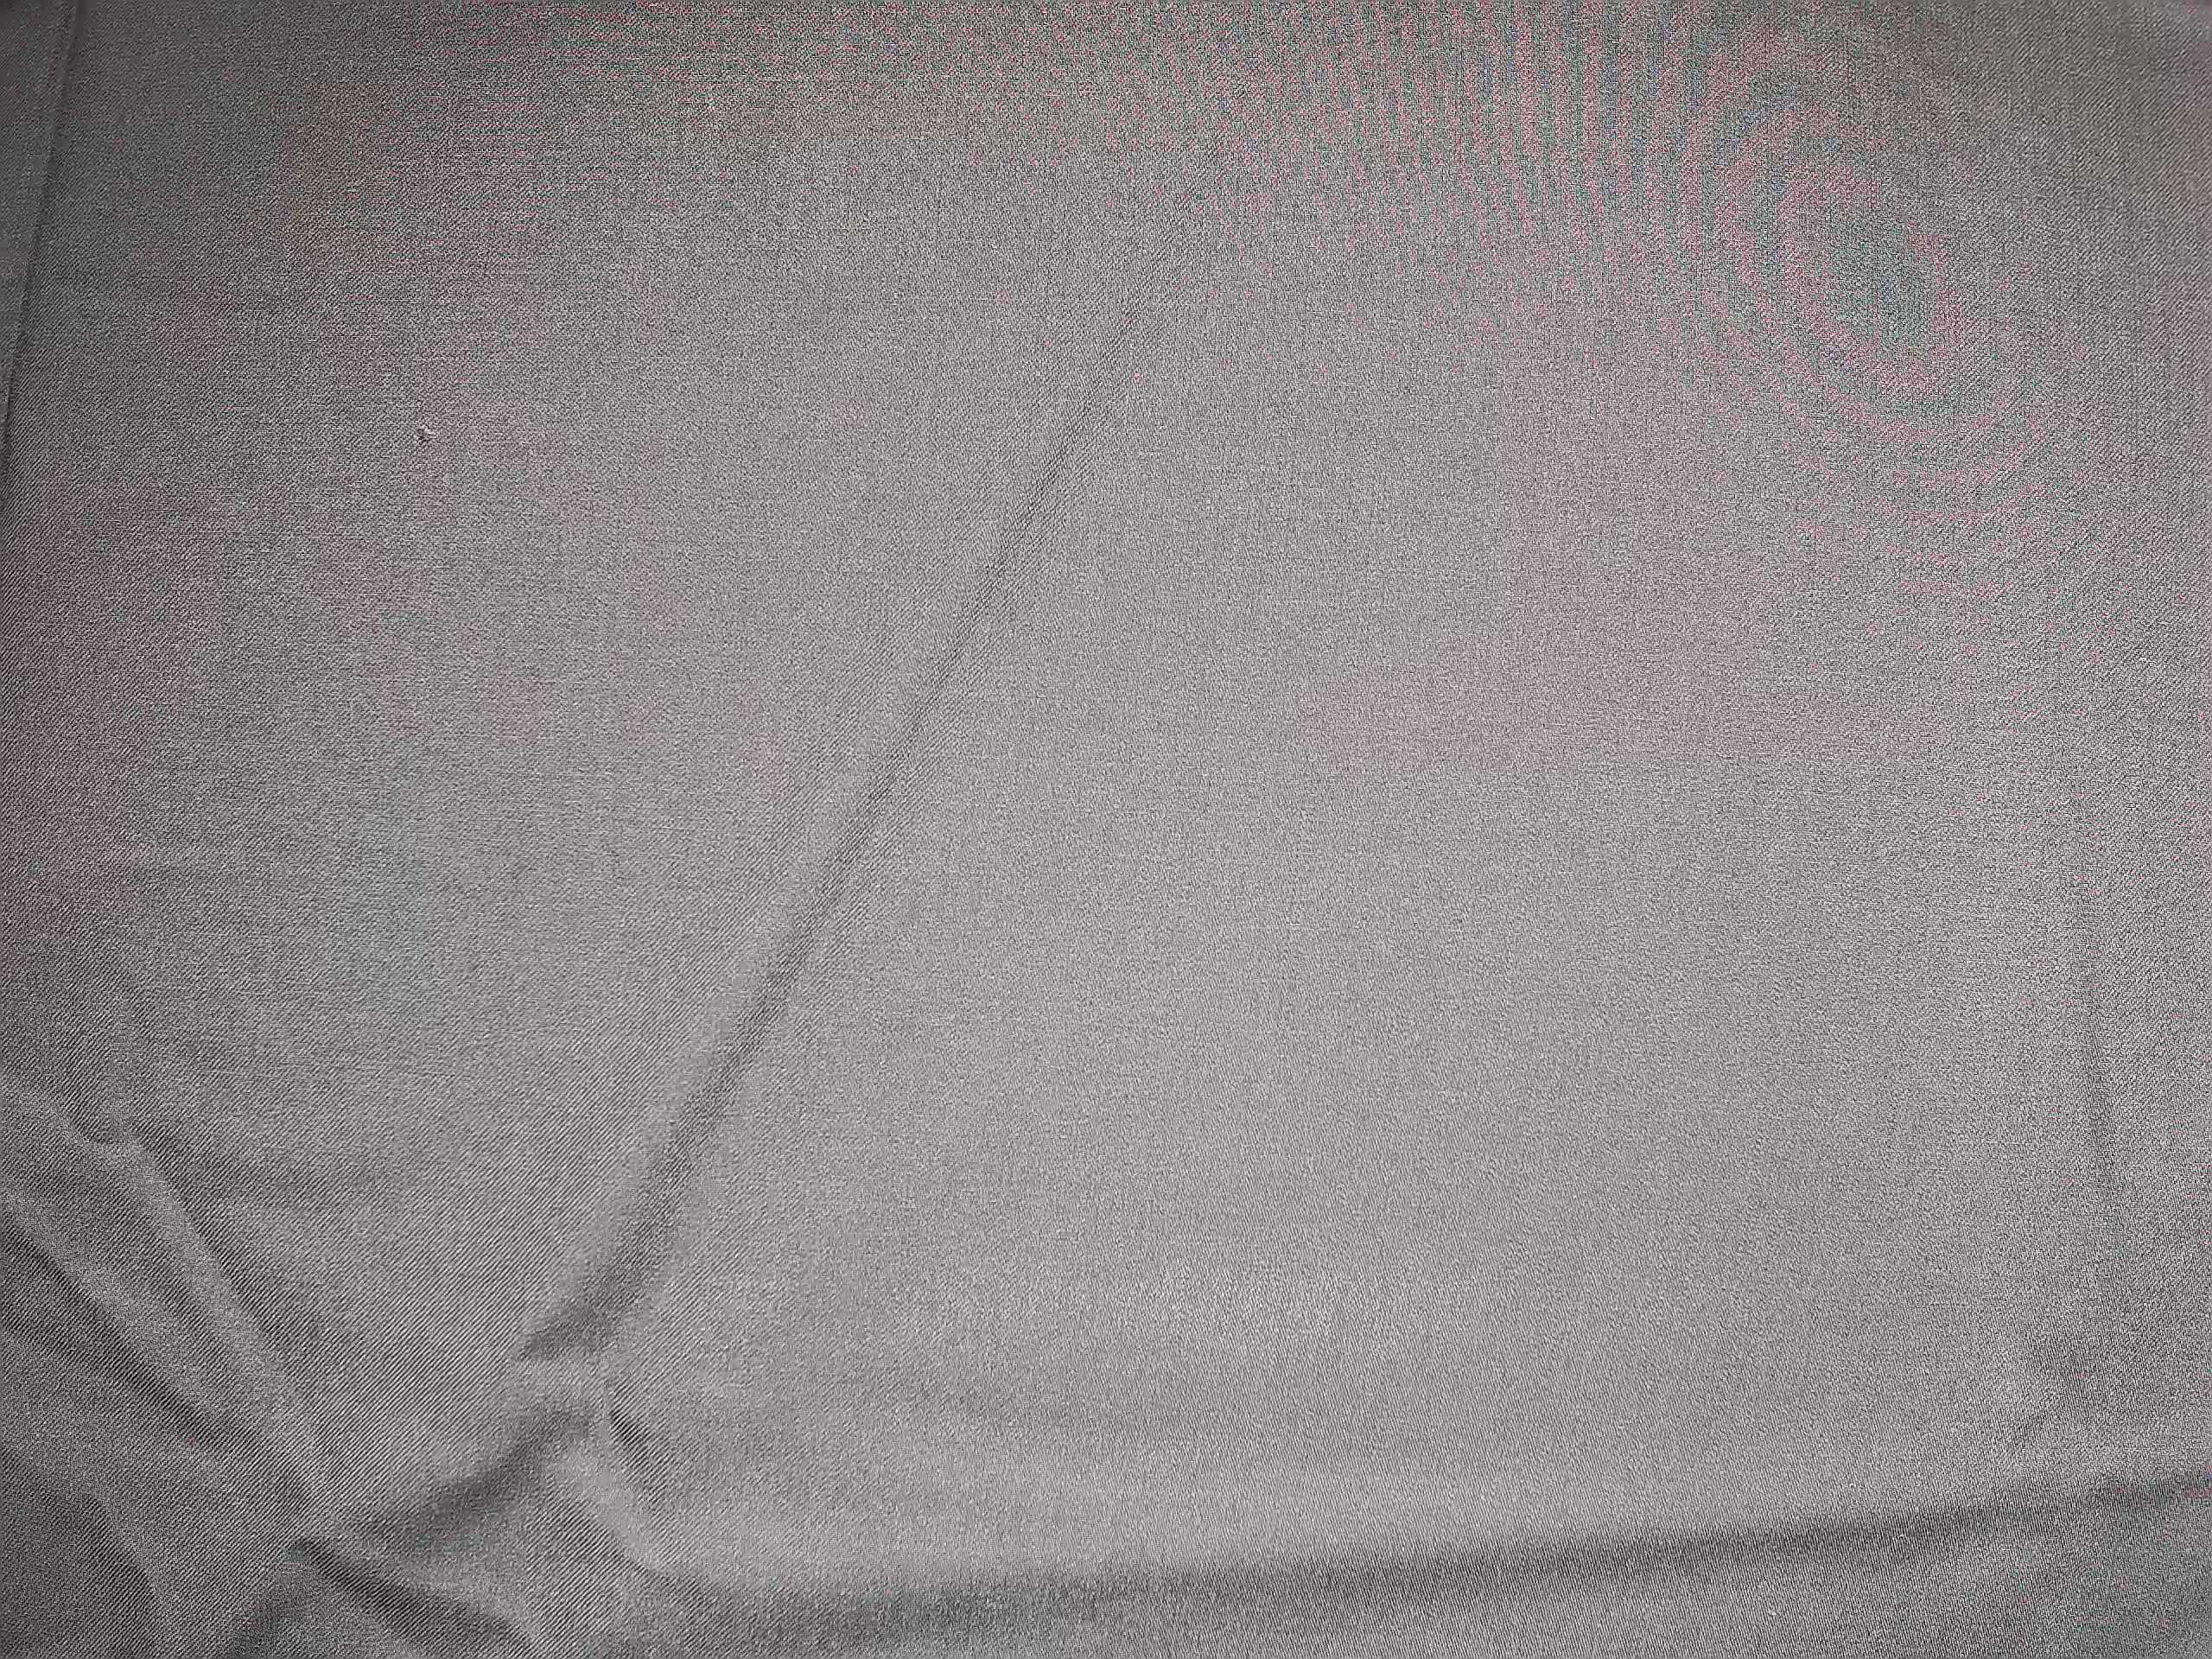others: (397, 403, 448, 465)
